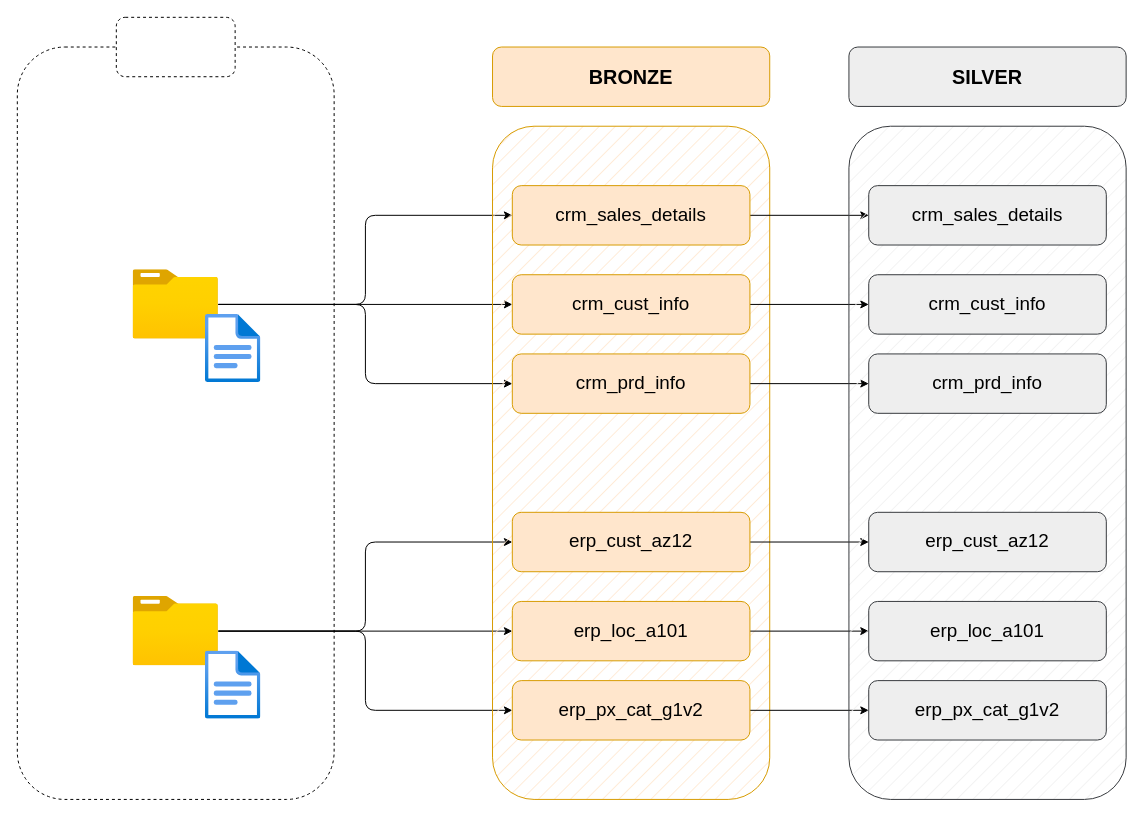
Image size: 1143x817. Some labels were removed from this diagram. Each missing label, with the centre of its shape:
"CRM" goes at [175,304].
"ERP" goes at [175,630].
"Sources" goes at [175,46].
